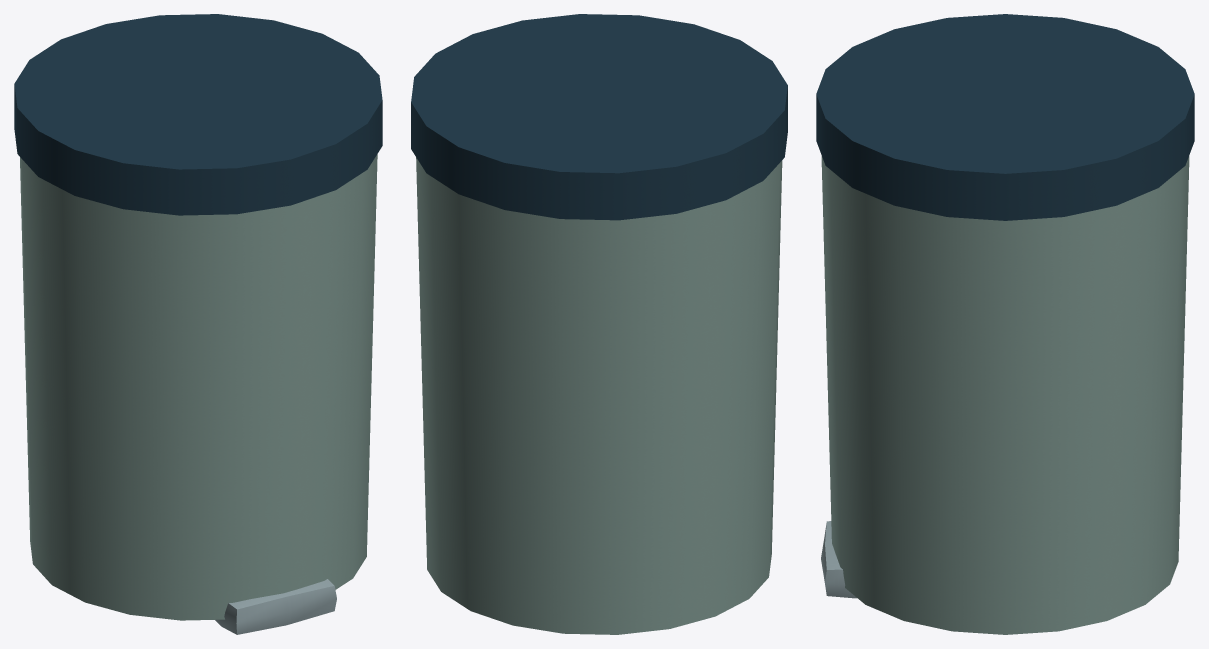
Rendered from waste-bin.glb.
The picture shows the model from 3 angles, left to right: view 1: azimuth 30°, elevation 25°; view 2: azimuth 150°, elevation 25°; view 3: azimuth 270°, elevation 25°; orthographic projection. The views are drawn at different scales.
Visible parts, largest first — view 1: waste-bin; view 2: waste-bin; view 3: waste-bin.
Boxes of the visible parts, x1,y1,x2,y2 form: waste-bin: (14, 14, 382, 634); waste-bin: (411, 14, 787, 634); waste-bin: (816, 14, 1194, 634).
Size of the model in its own units: 0.328 by 0.462 by 0.328.
3 materials, 3 textured.
